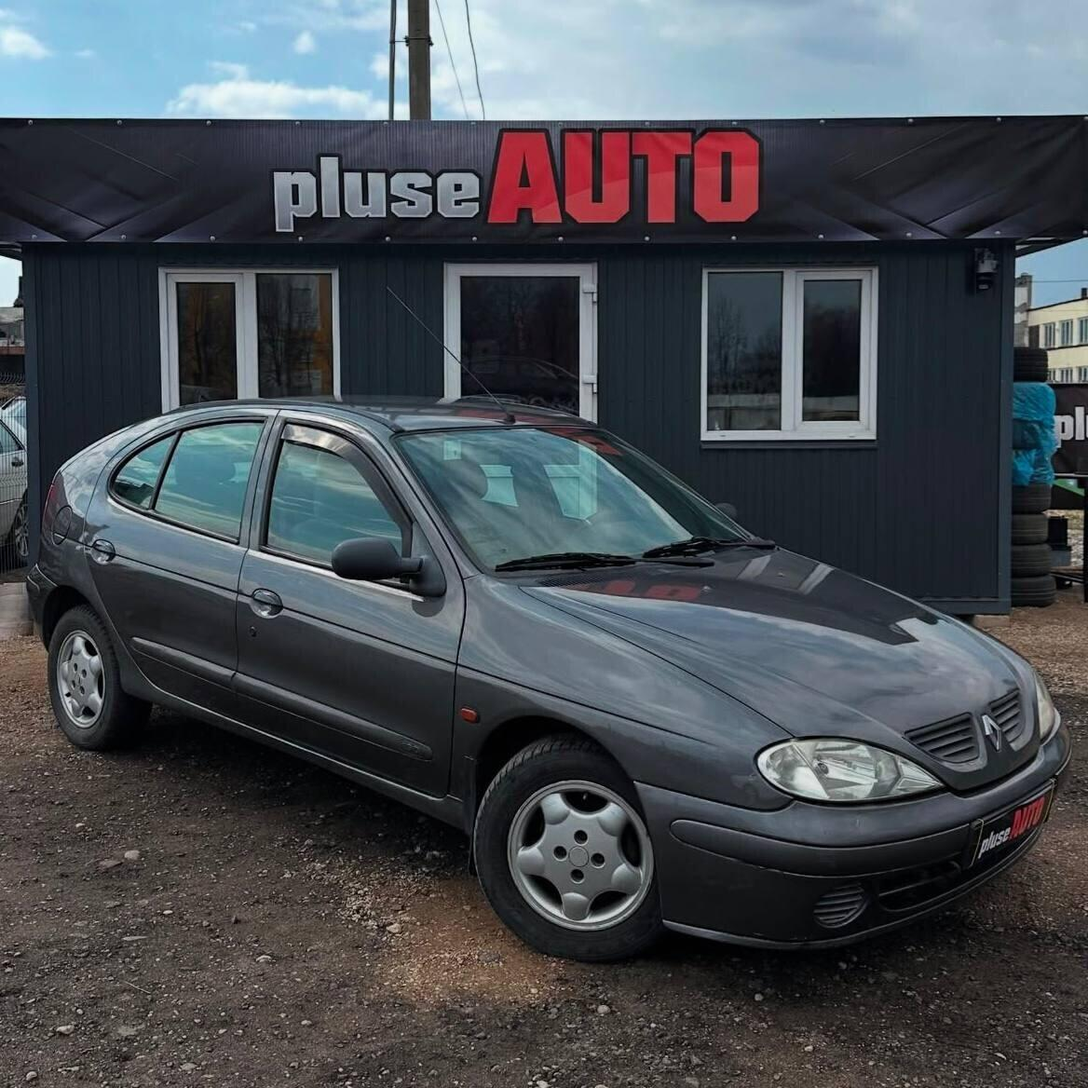Megane_1999-2003: (22, 396, 1077, 983)
